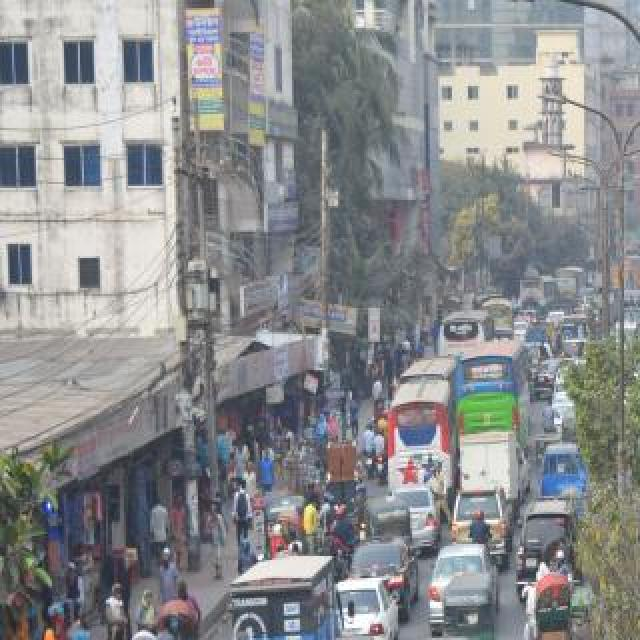bus: (459, 337, 531, 445), (388, 381, 454, 491), (437, 310, 497, 358), (398, 354, 458, 388), (606, 252, 640, 294), (519, 273, 557, 303), (484, 297, 512, 329), (555, 264, 587, 292)
car: (429, 543, 499, 627), (332, 564, 400, 640), (352, 539, 414, 619), (396, 488, 438, 542), (394, 624, 490, 640), (529, 356, 565, 394), (628, 426, 640, 480)
motorbike: (332, 503, 366, 549), (359, 422, 379, 480), (467, 507, 491, 553), (374, 428, 388, 490)
truck: (547, 288, 579, 314)
van: (521, 497, 579, 595), (457, 433, 523, 503), (451, 486, 511, 560), (536, 442, 590, 504), (562, 336, 592, 366), (558, 317, 588, 339), (523, 326, 549, 346)
